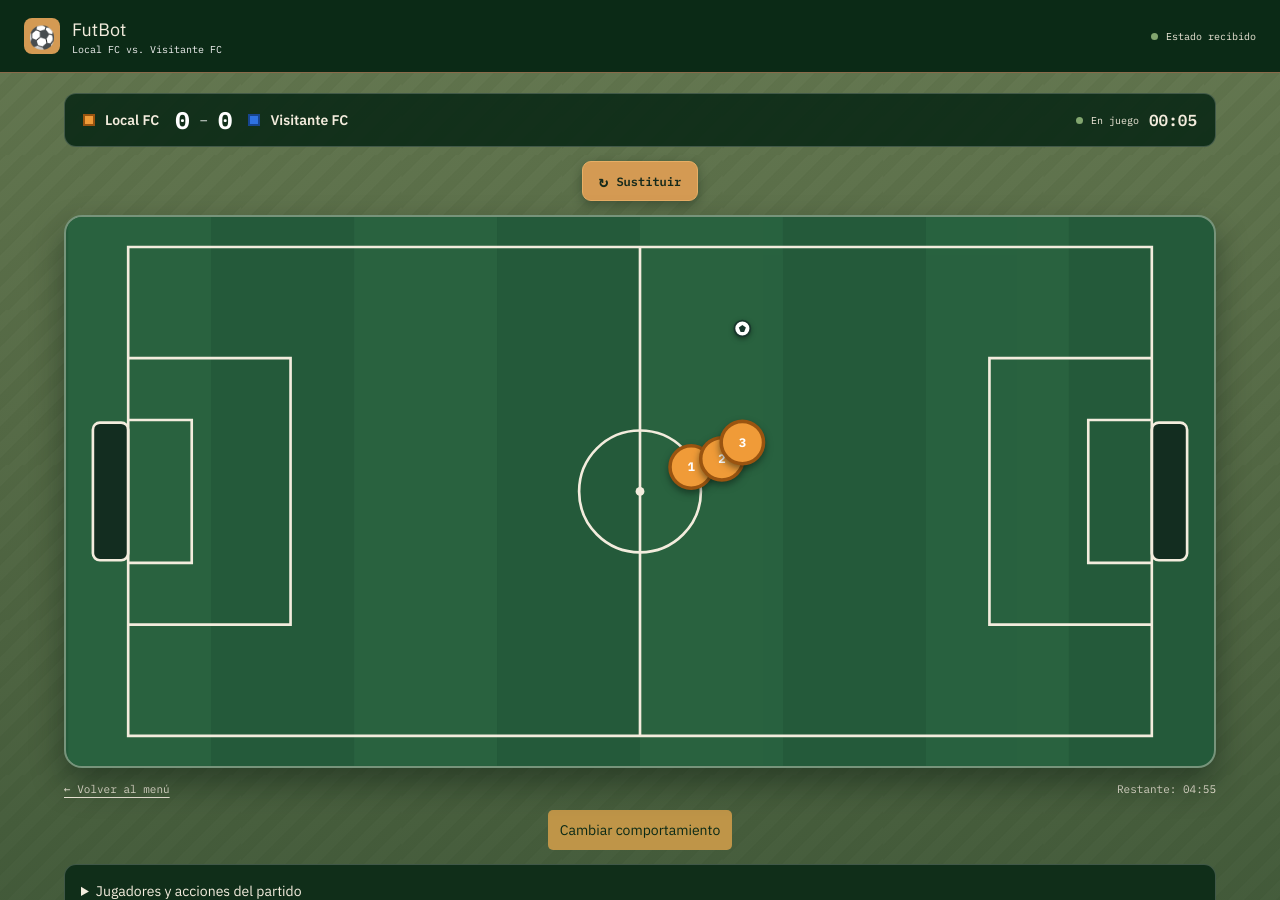
Test: Estado del partido por WebSocket › muestra el error del servidor en un aviso y deja el modal abierto
This screenshot has width=1280, height=900.
Click the button "Cambiar comportamiento" at (640, 830), box [548,810,732,850]
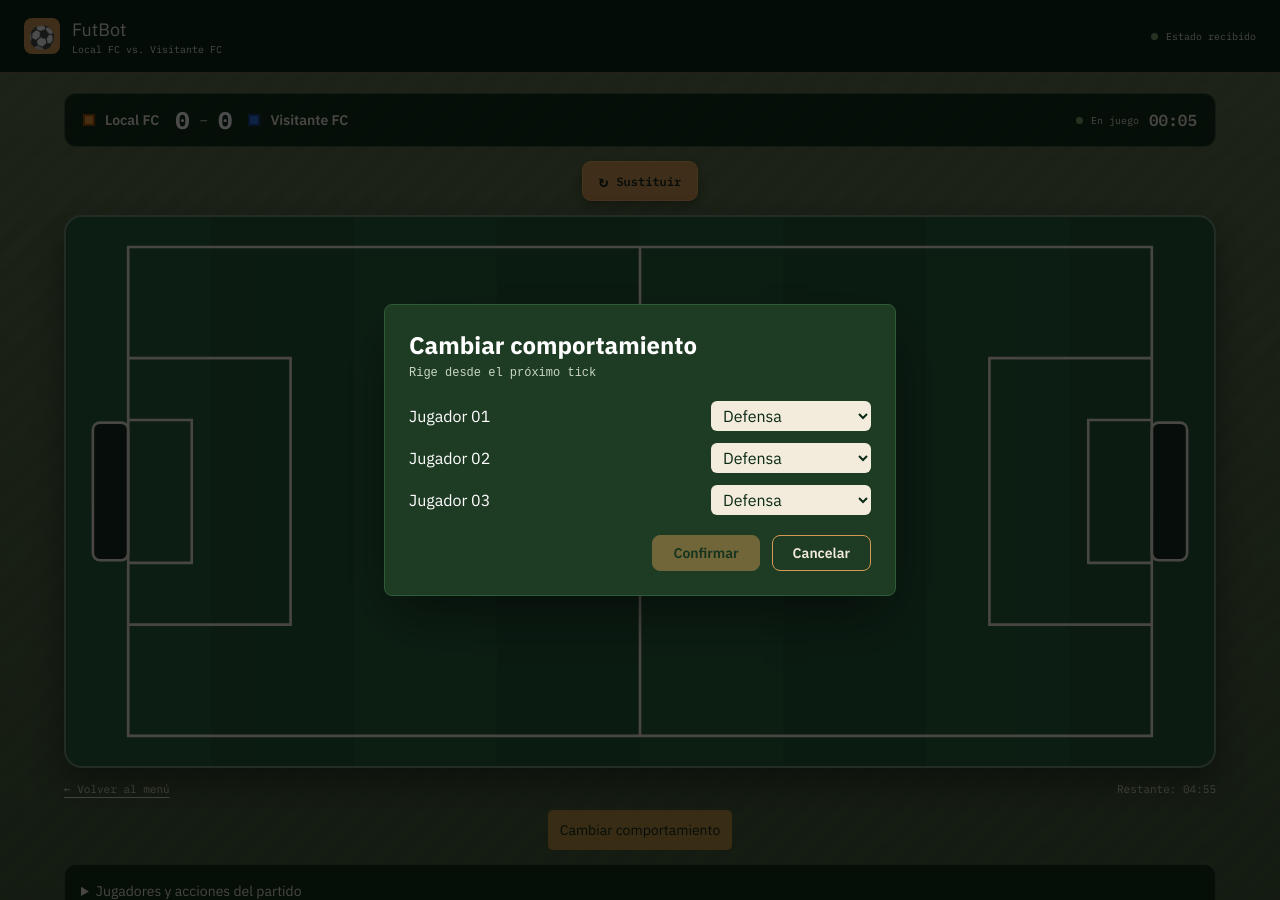
Select "Ataque" in the dropdown named "Comportamiento de Jugador 01" at (791, 416), box [711,401,871,431]
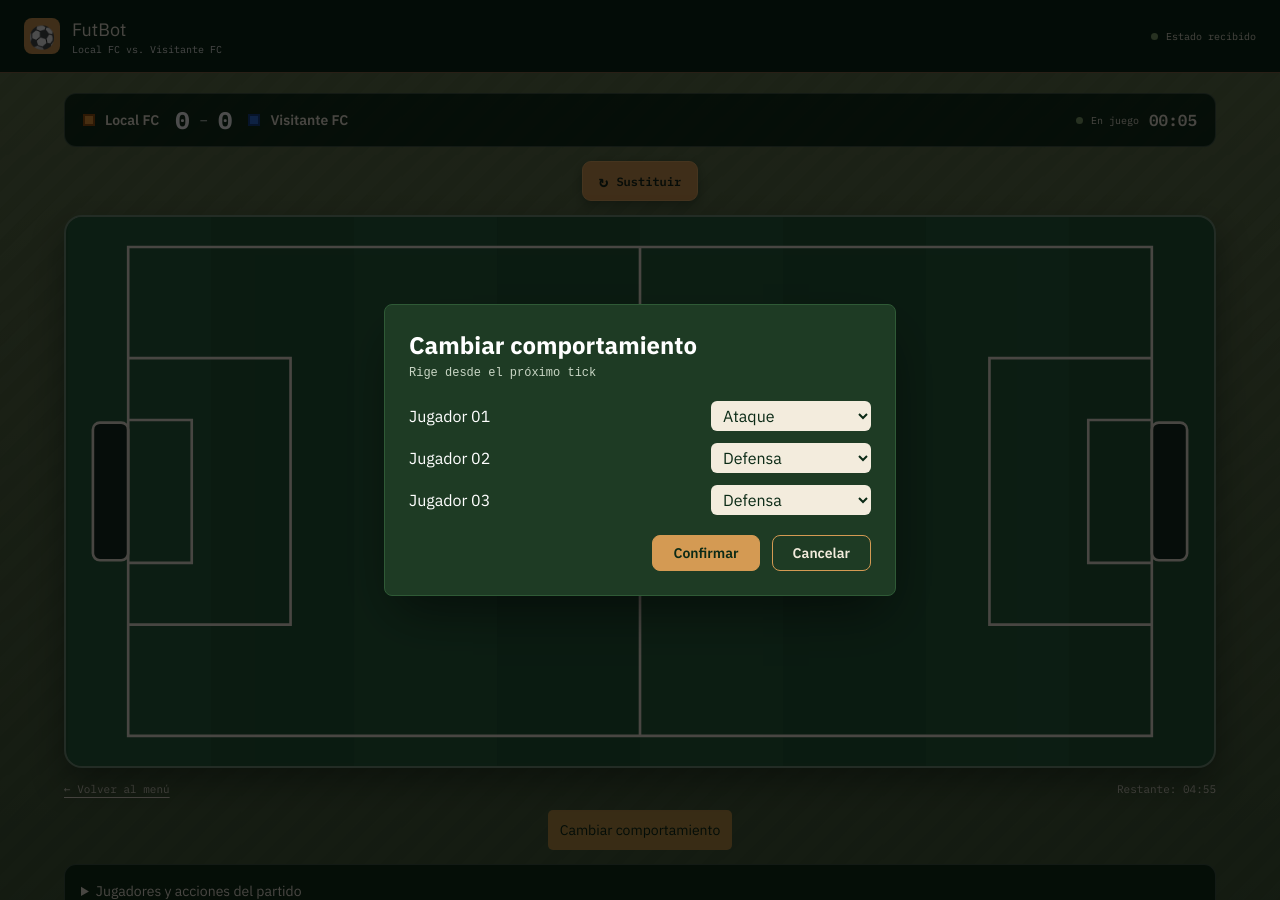
Click the button "Confirmar" at (706, 553), box [652,535,760,571]
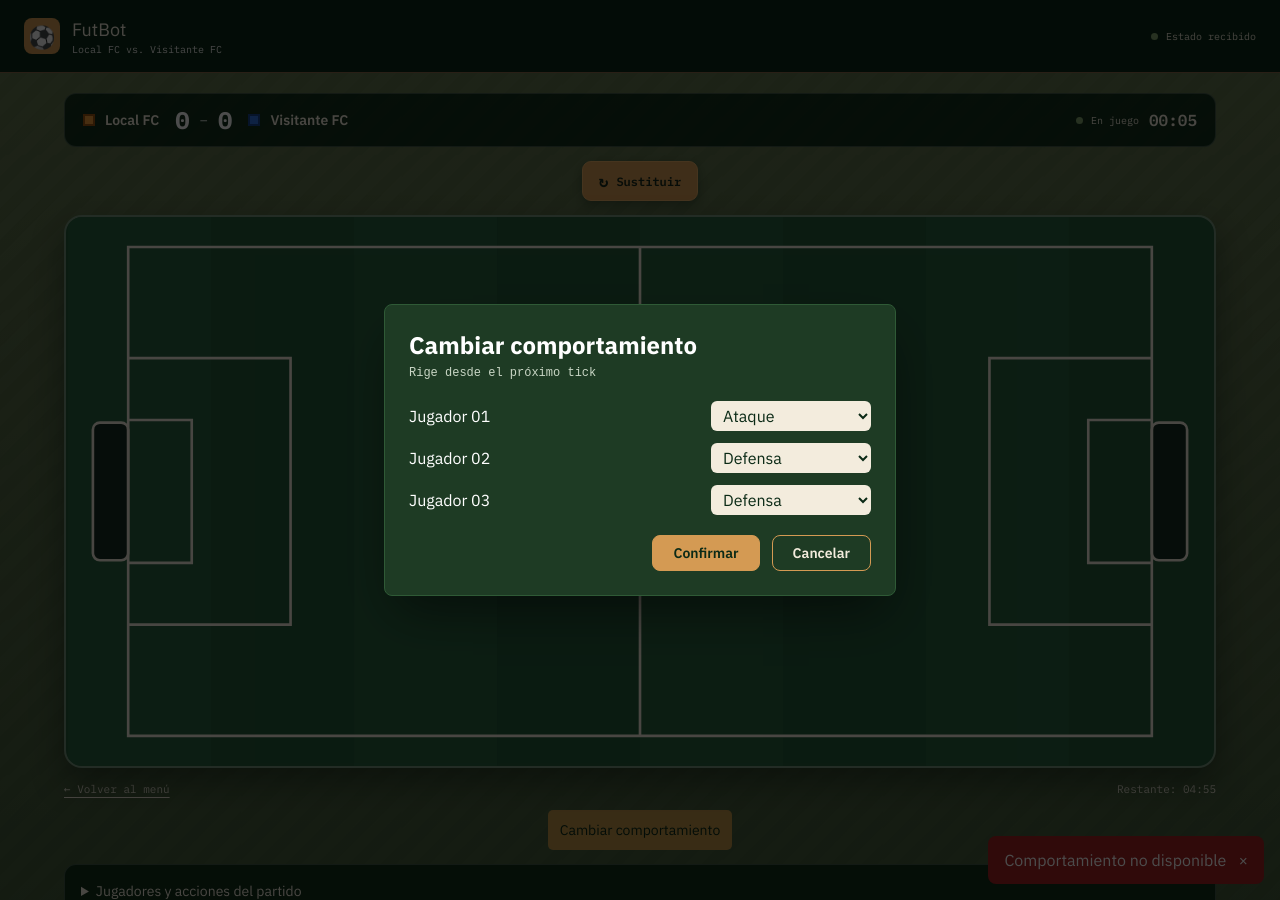
Check: the dialog is shown, box [384,304,896,596]
Check: the message shows "Comportamiento no disponible", box [1004,850,1226,870]
